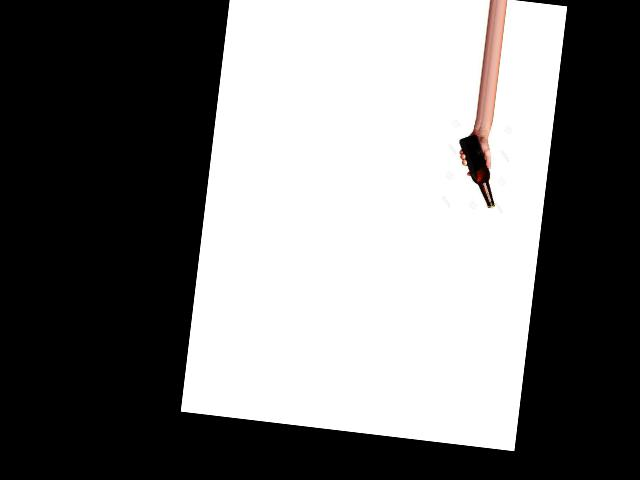beer: (452, 133, 503, 208)
